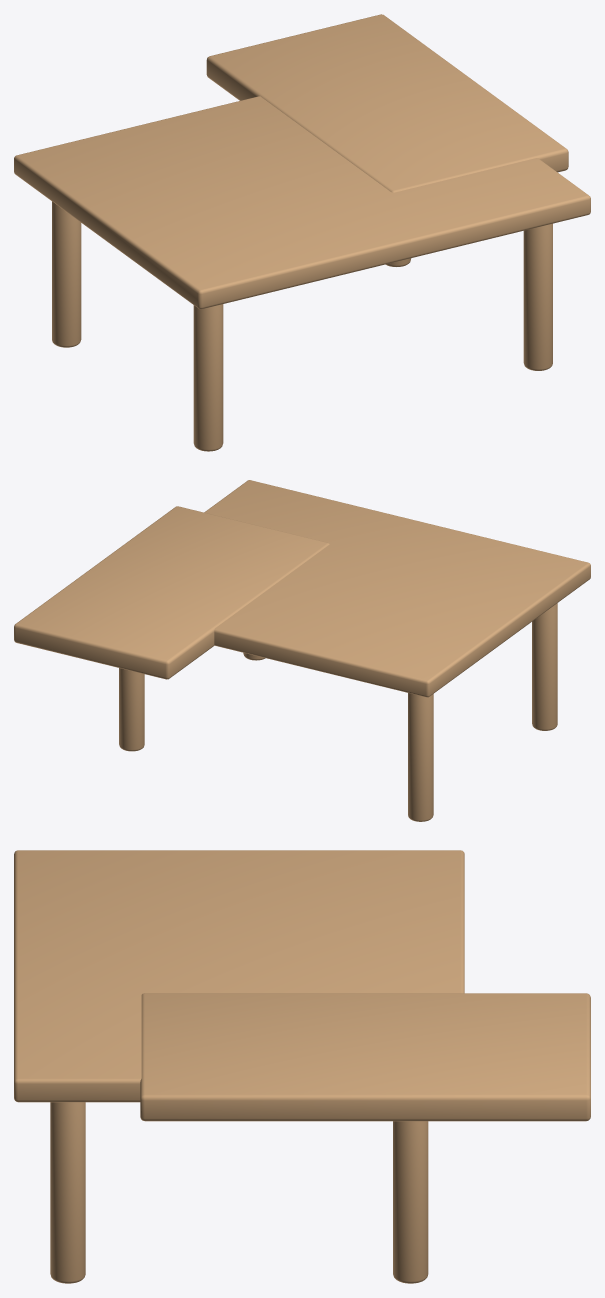
File: desk-corner.glb
3 renders of one model, top to bottom at view 1: azimuth 30°, elevation 25°; view 2: azimuth 150°, elevation 25°; view 3: azimuth 270°, elevation 25°, orthographic. The views are drawn at different scales.
Visible parts, largest first — view 1: top.003, return, leg-1.003, leg-3.003, leg-2.003; view 2: top.003, return, leg-2.003, leg-1.003, leg-4.003; view 3: top.003, return, leg-3.003, leg-4.003.
Boxes of the visible parts, x1,y1,x2,y2 form: top.003: (14, 96, 590, 309); return: (206, 14, 568, 192); leg-1.003: (193, 304, 223, 451); leg-3.003: (523, 223, 552, 370); leg-2.003: (52, 201, 81, 347); top.003: (204, 480, 590, 697); return: (14, 506, 329, 679); leg-2.003: (408, 693, 433, 821); leg-1.003: (532, 603, 557, 730); leg-4.003: (119, 668, 144, 751); top.003: (14, 850, 464, 1102); return: (140, 993, 590, 1121); leg-3.003: (50, 1102, 85, 1283); leg-4.003: (393, 1121, 428, 1283).
Size of the model in its own units: 1.83 by 0.7442 by 1.79.
